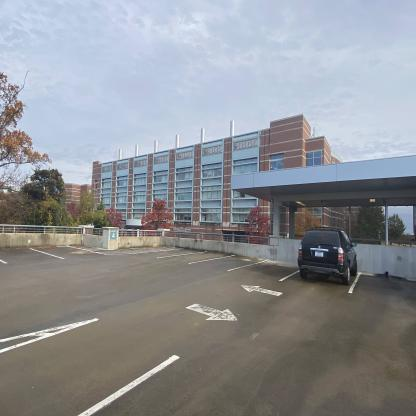EB-1: (90, 115, 324, 246)
